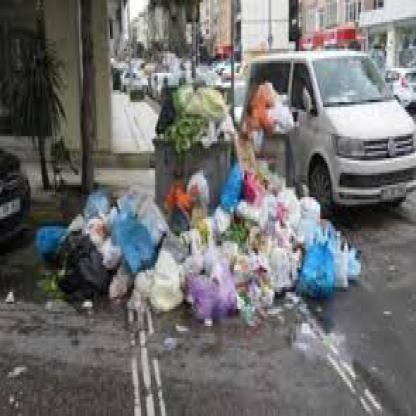Garbage: (28, 214, 365, 314), (142, 175, 236, 343), (234, 151, 309, 331), (78, 185, 160, 316), (154, 86, 240, 132), (56, 231, 117, 294), (146, 244, 182, 328), (251, 76, 293, 132), (189, 265, 233, 314), (271, 245, 300, 290)
